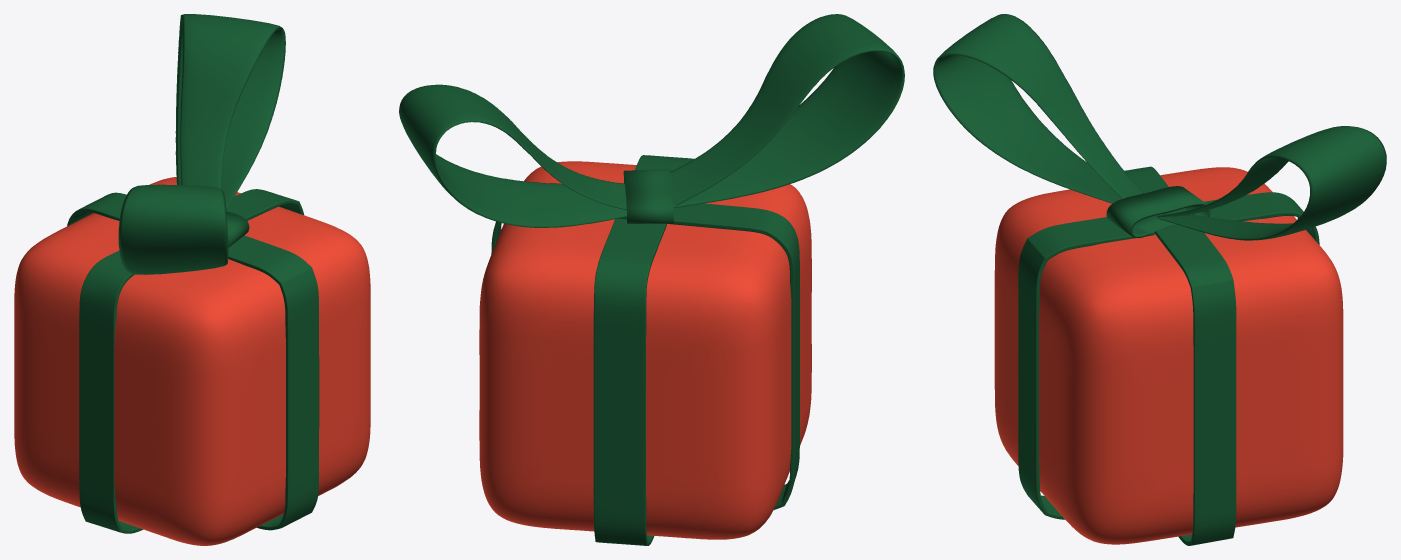
The model's file is gift.gltf.
The picture shows the model from 3 angles, left to right: view 1: azimuth 30°, elevation 25°; view 2: azimuth 150°, elevation 25°; view 3: azimuth 270°, elevation 25°; orthographic projection. The views are drawn at different scales.
Visible parts, largest first — view 1: Cube, NurbsPath, Cube.001, Cube.002, BezierCircle; view 2: Cube, NurbsPath, Cube.001, Cube.002, BezierCircle; view 3: Cube, NurbsPath, Cube.002, Cube.001, BezierCircle.
Boxes of the visible parts, x1,y1,x2,y2 form: Cube: [14, 177, 370, 545]; NurbsPath: [118, 14, 285, 274]; Cube.001: [67, 192, 319, 530]; Cube.002: [79, 189, 303, 533]; BezierCircle: [226, 211, 249, 247]; Cube: [479, 161, 811, 539]; NurbsPath: [399, 14, 904, 227]; Cube.001: [593, 155, 694, 545]; Cube.002: [491, 203, 799, 509]; BezierCircle: [623, 169, 673, 223]; Cube: [994, 167, 1343, 544]; NurbsPath: [933, 14, 1386, 240]; Cube.002: [1124, 166, 1236, 545]; Cube.001: [1018, 192, 1319, 519]; BezierCircle: [1106, 186, 1210, 238].
Bounding box in the file's own units: 1.58 × 1.86 × 1.87.
